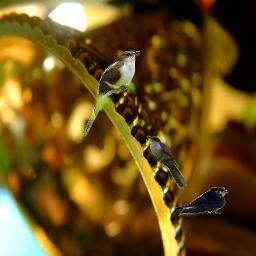Cuckoo: (82, 50, 141, 137), (146, 135, 187, 188)
Swallow: (175, 187, 229, 217)
